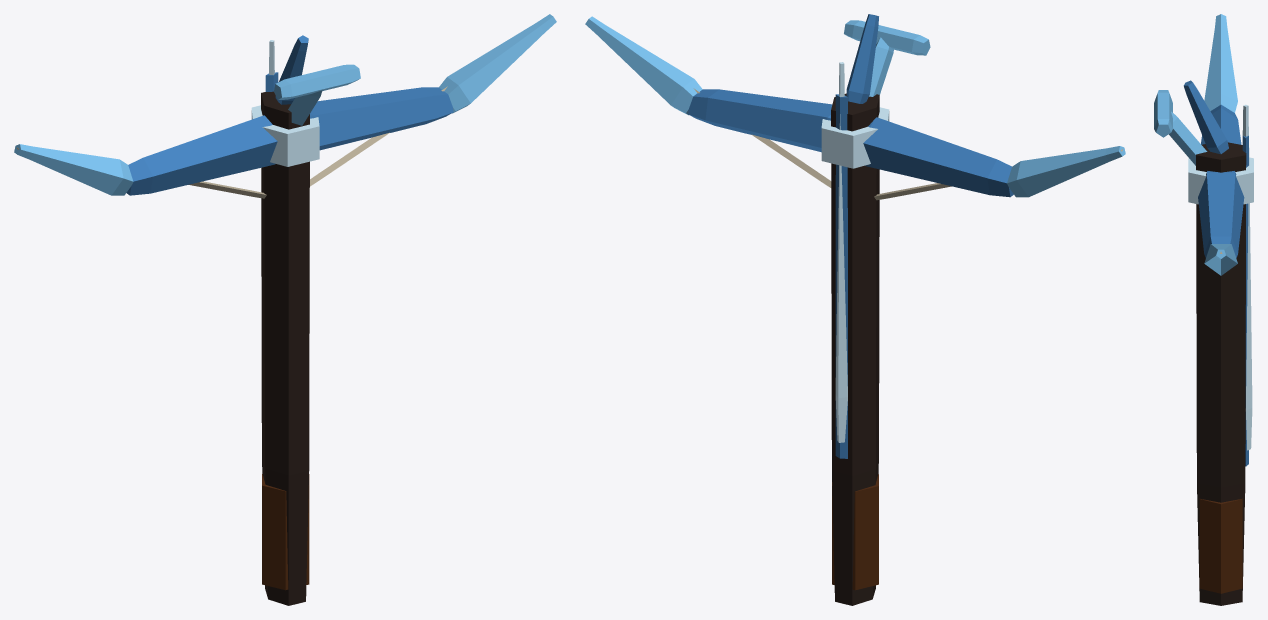
File: wpn_crossbow_7.glb
3 views of the same model, side by side, from view 1: azimuth 30°, elevation 25°; view 2: azimuth 150°, elevation 25°; view 3: azimuth 270°, elevation 25° (orthographic). The views are drawn at different scales.
Visible parts, largest first — view 1: wpn_crossbow_7; view 2: wpn_crossbow_7; view 3: wpn_crossbow_7.
Part boxes in pixels (x1,y1,x2,y2): wpn_crossbow_7: (14,14,556,605); wpn_crossbow_7: (585,14,1125,605); wpn_crossbow_7: (1154,14,1253,605).
Bounding box in the file's own units: 0.6853 × 0.6925 × 0.1212.
